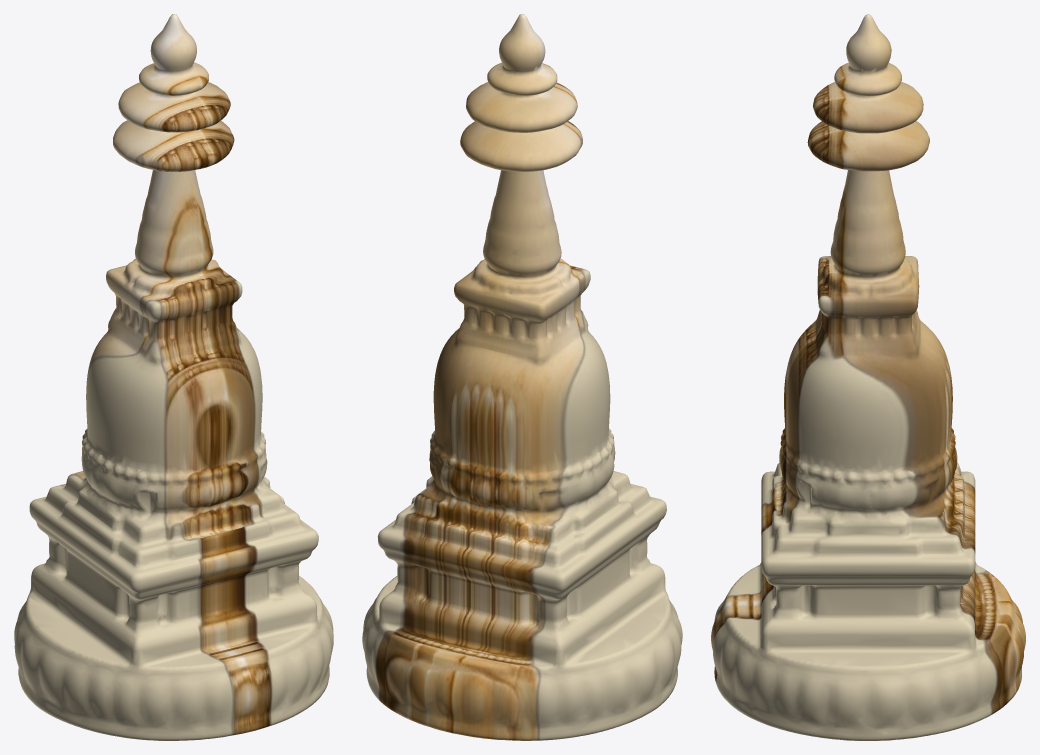
Rendered from stupa.glb.
3 renders of one model, left to right at view 1: azimuth 30°, elevation 25°; view 2: azimuth 150°, elevation 25°; view 3: azimuth 270°, elevation 25°, orthographic.
Parts seen in each view (by area): view 1: world; view 2: world; view 3: world.
Part boxes in pixels (bbox=[...]): world: bbox=[14, 14, 333, 740]; world: bbox=[362, 14, 682, 740]; world: bbox=[711, 14, 1025, 740].
Bounding box in the file's own units: 0.8567 × 1.96 × 0.8432.
Materials: 1 (1 with a texture image).
